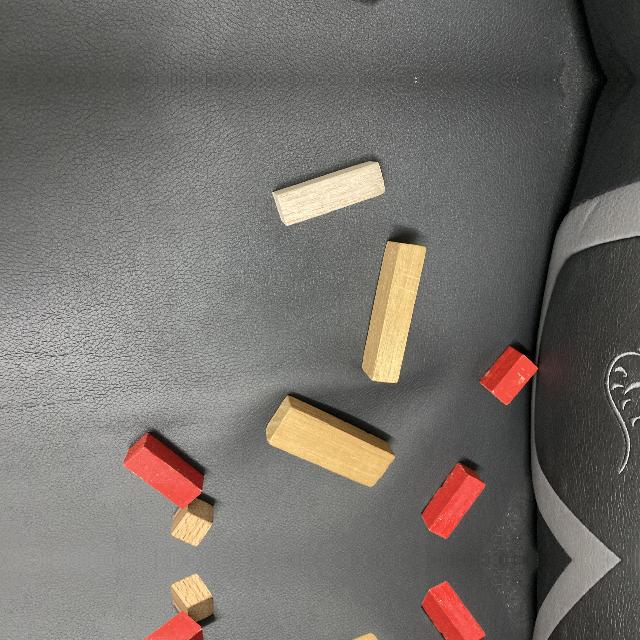block: (272, 162, 385, 226)
cube: (170, 492, 216, 547), (170, 573, 216, 628)
jenga: (265, 396, 395, 487), (361, 240, 427, 384)
red block: (123, 431, 205, 510), (421, 463, 486, 539), (421, 581, 486, 640), (481, 348, 536, 404), (142, 610, 204, 640)
